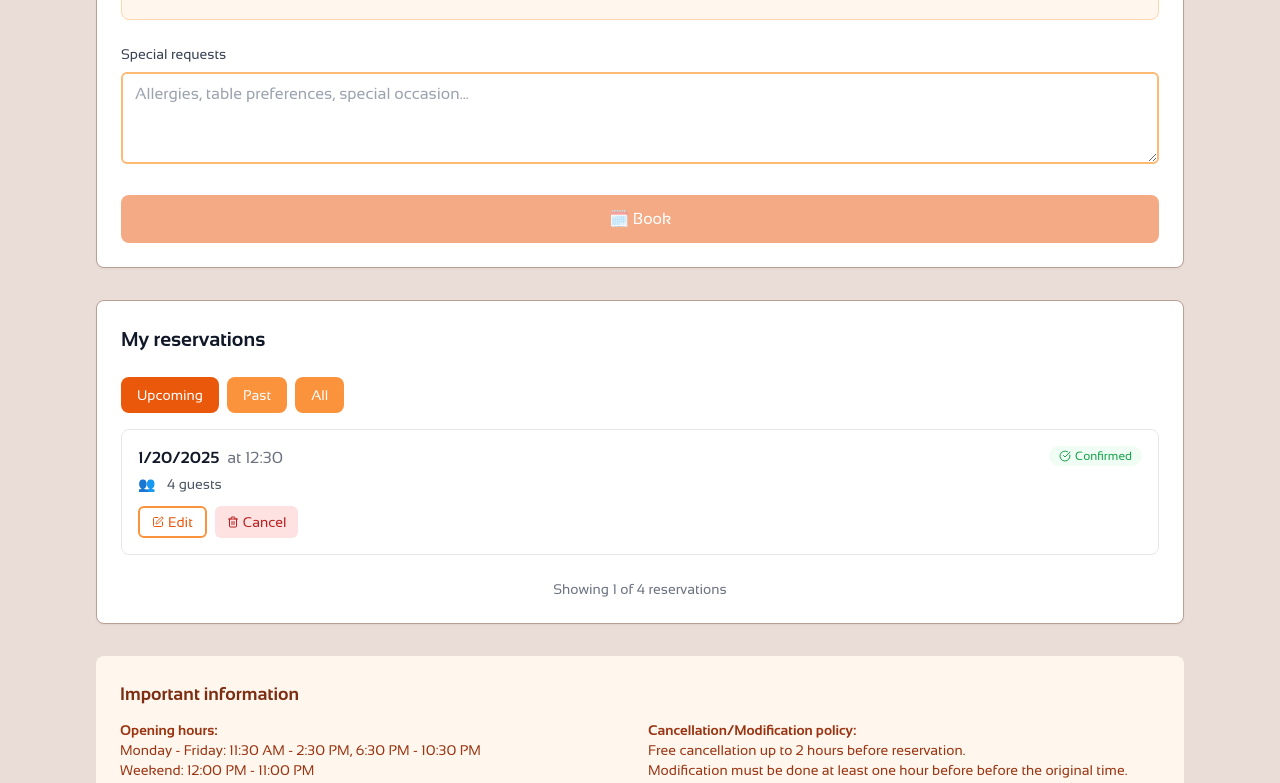
Test: Reservations Component › Reservation Filtering › should show all reservations when All clicked
The width and height of the screenshot is (1280, 783).
(page scrolled)
What coordinates should you click on to do the following:
click the button "All"
I would click on:
 (320, 395)
Its box is 295,377 -> 344,413.
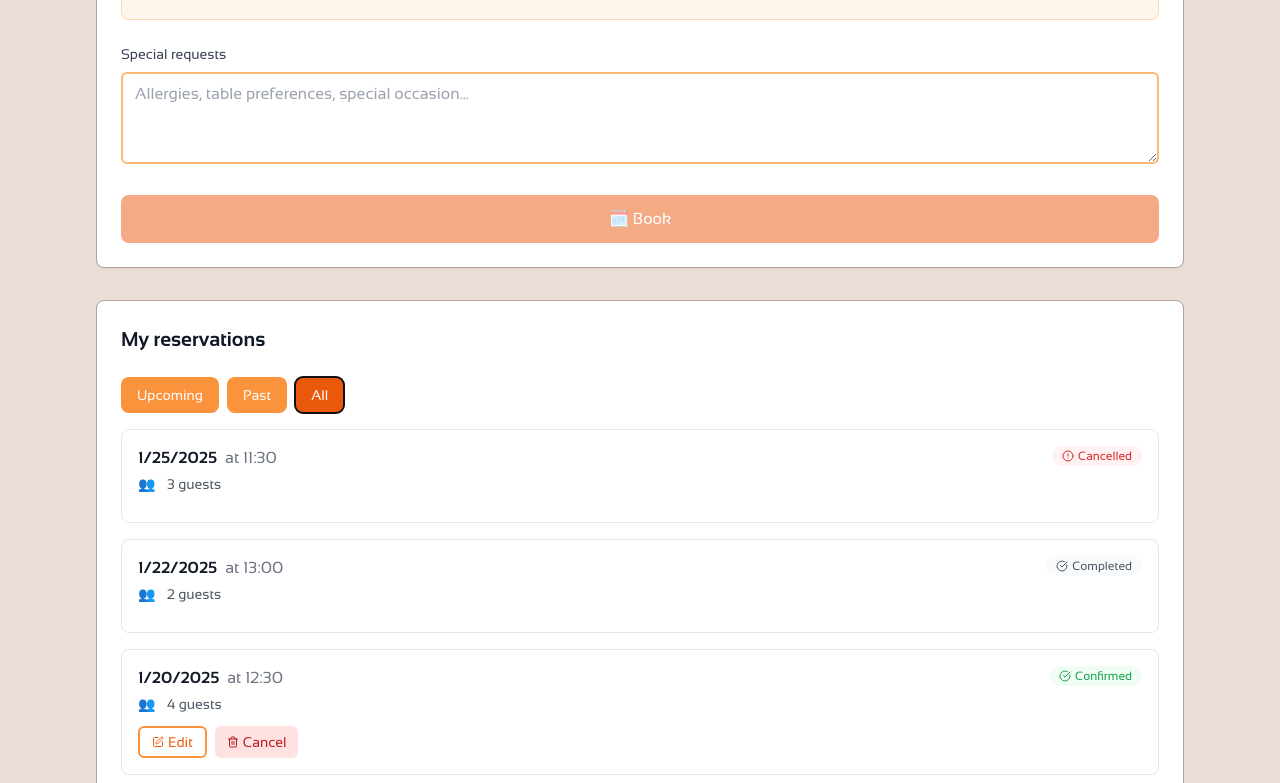
Expected: the text "1/20/2025" is shown, 138,666 -> 219,690
Expected: the text "1/25/2025" is shown, 138,446 -> 217,470
Expected: the text "1/22/2025" is shown, 138,556 -> 217,580
